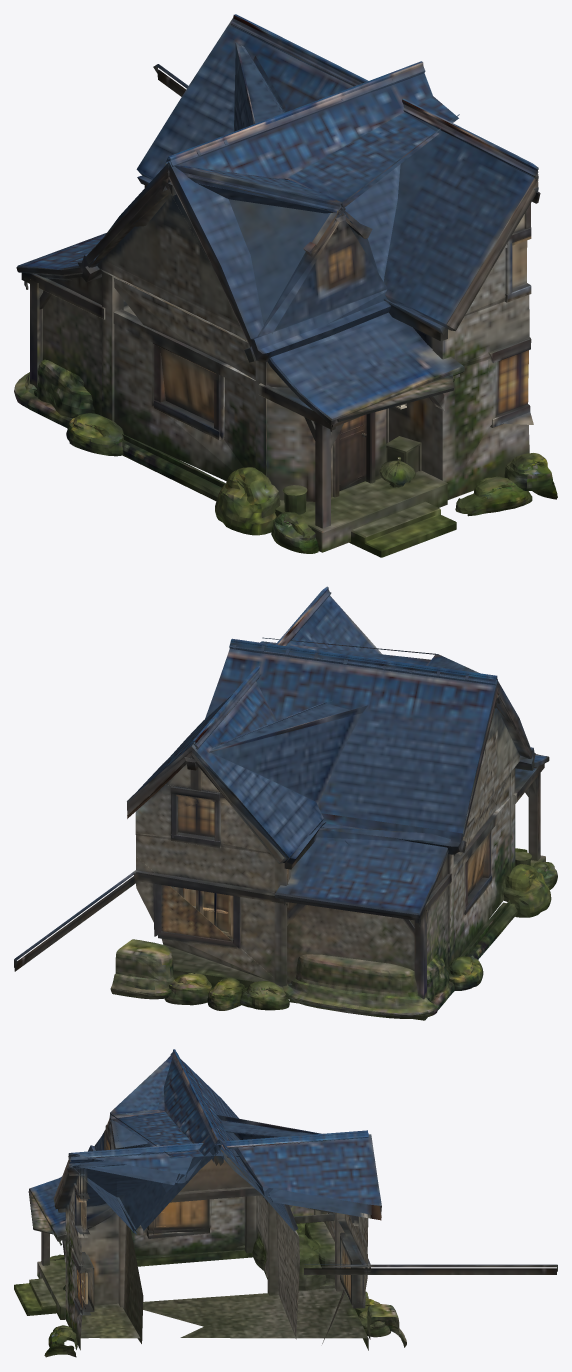
File: farmhouse_game.glb
The picture shows the model from 3 angles, top to bottom: view 1: azimuth 30°, elevation 25°; view 2: azimuth 150°, elevation 25°; view 3: azimuth 270°, elevation 25°; orthographic projection. The views are drawn at different scales.
Parts seen in each view (by area): view 1: geometry_0; view 2: geometry_0; view 3: geometry_0.
Boxes of the visible parts, left/top/right/bottom form: geometry_0: left=14, top=14, right=557, bottom=557; geometry_0: left=14, top=586, right=557, bottom=1020; geometry_0: left=14, top=1049, right=557, bottom=1357.
Bounding box in the file's own units: 10.53 × 10.51 × 23.67.
Materials: 1 (1 with a texture image).
